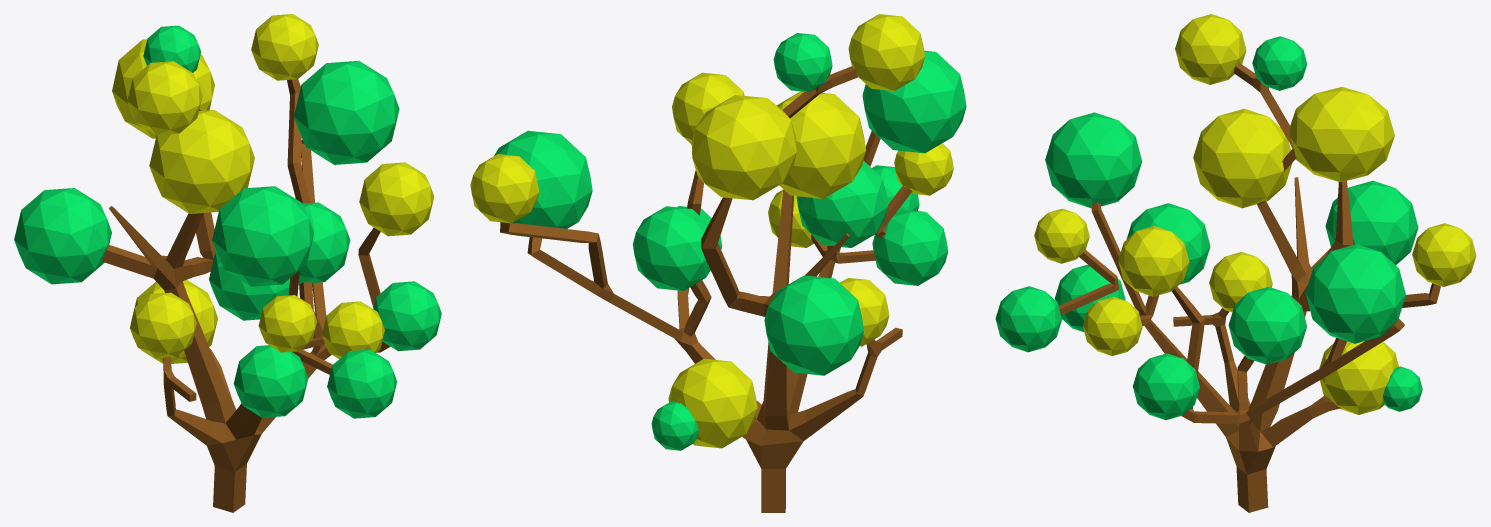
File: RW_bush_sphere.fbx
3 renders of one model, left to right at view 1: azimuth 30°, elevation 25°; view 2: azimuth 150°, elevation 25°; view 3: azimuth 270°, elevation 25°, orthographic. The views are drawn at different scales.
Visible parts, largest first — view 1: Icosphere.094; view 2: Icosphere.094; view 3: Icosphere.094.
Boxes of the visible parts, box(x1,y1,x2,y2) form: Icosphere.094: box(14, 14, 441, 512); Icosphere.094: box(470, 14, 966, 512); Icosphere.094: box(995, 14, 1476, 512).
Bounding box in the file's own units: 2.95 × 3.75 × 3.63.
